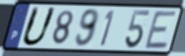1: (99, 9, 116, 48)
5: (124, 8, 153, 50)
8: (51, 9, 76, 46)
9: (73, 8, 101, 49)
E: (143, 10, 179, 51)
U: (20, 5, 59, 48)
